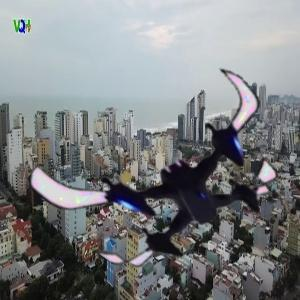drone: (60, 55, 298, 293)
